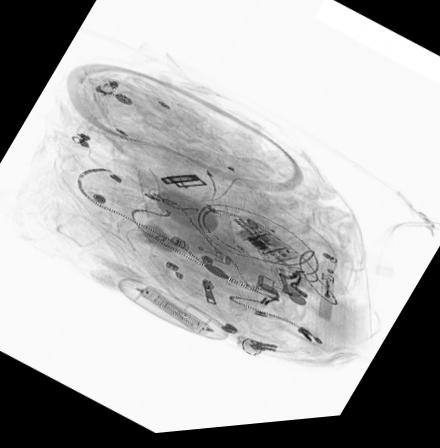Lighter: (317, 277, 336, 326)
